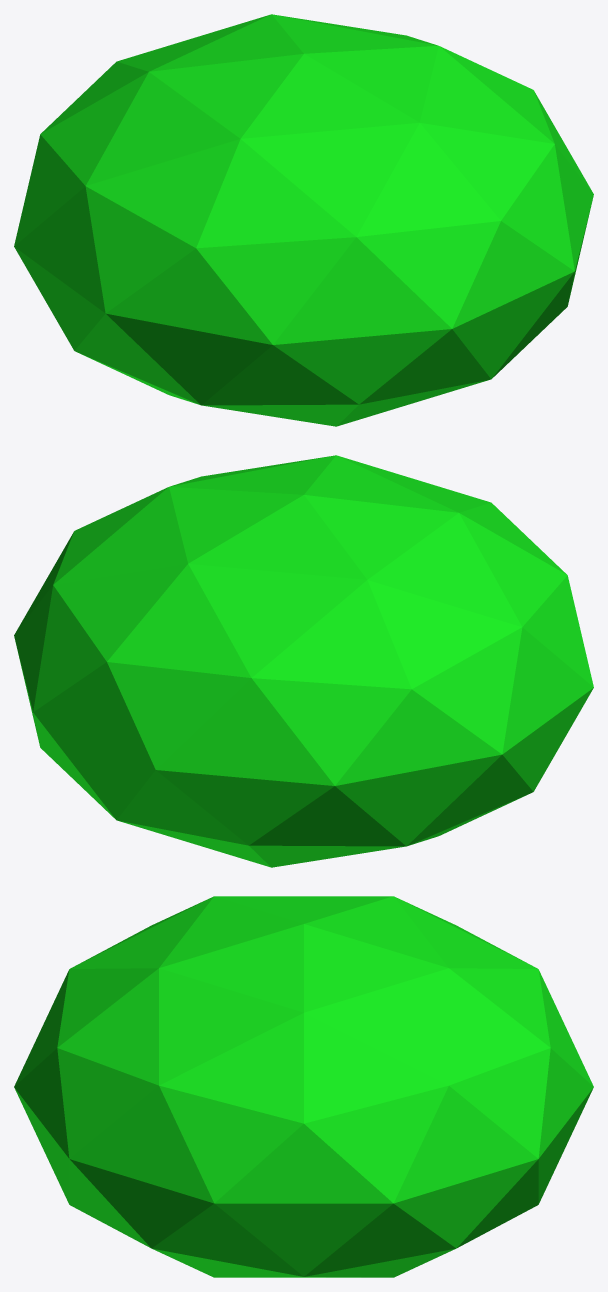
The model's file is blob-firewall.glb.
The picture shows the model from 3 angles, top to bottom: view 1: azimuth 30°, elevation 25°; view 2: azimuth 150°, elevation 25°; view 3: azimuth 270°, elevation 25°; orthographic projection. The views are drawn at different scales.
Visible parts, largest first — view 1: Icosphere; view 2: Icosphere; view 3: Icosphere.
Part boxes in pixels (left/top/right/bottom): Icosphere: left=14, top=14, right=593, bottom=426; Icosphere: left=14, top=455, right=593, bottom=867; Icosphere: left=14, top=896, right=593, bottom=1277.
Bounding box in the file's own units: 1.9 × 1.24 × 2.
